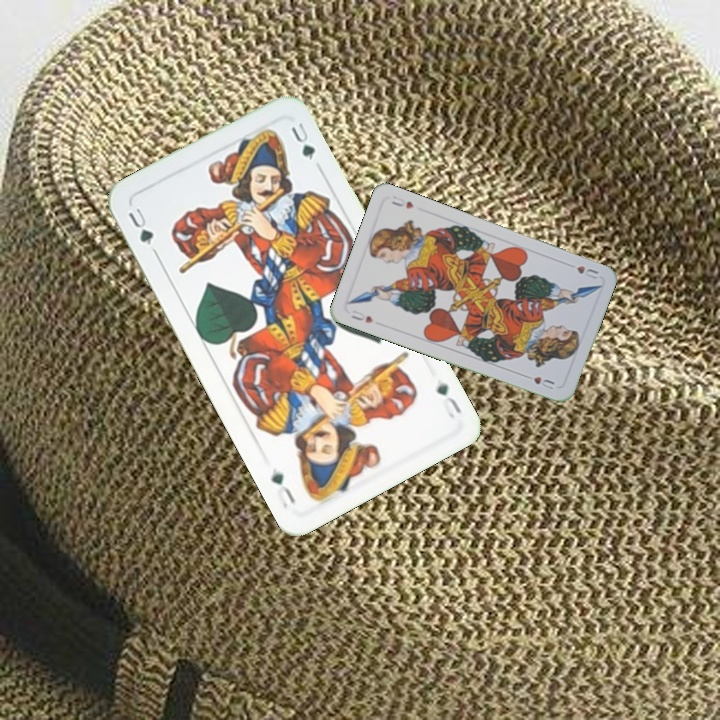GU: (124, 202, 156, 248), (432, 377, 464, 421)
HU: (573, 261, 602, 282), (347, 306, 376, 326)
